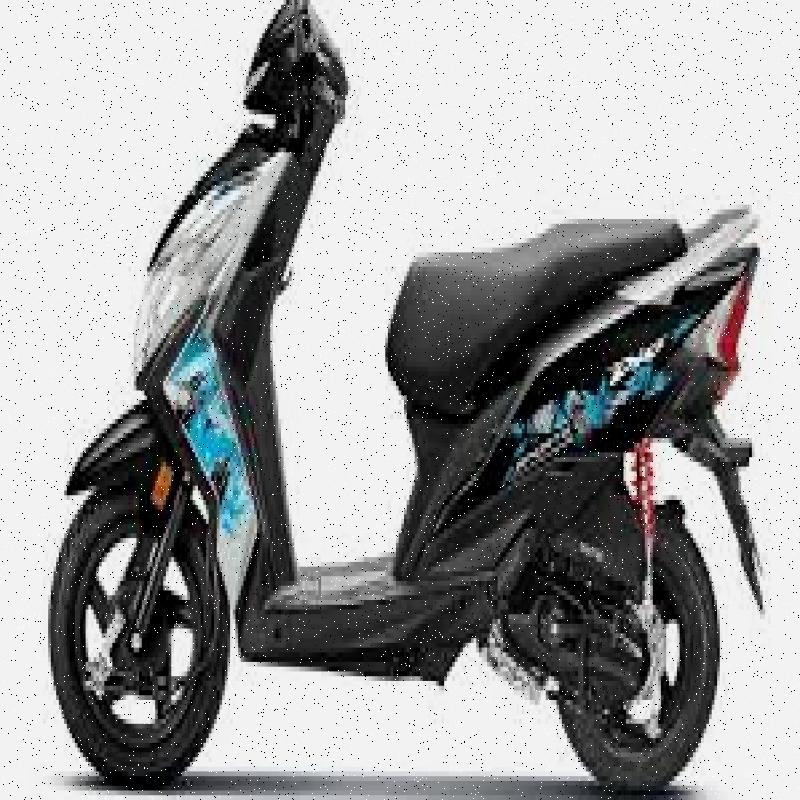bike: (44, 5, 774, 800)
